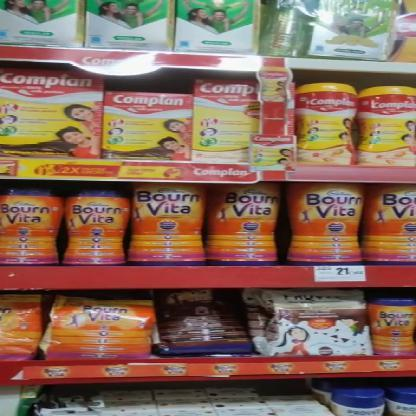Complan Kesar Badam: (193, 78, 264, 165)
Complan Royal Chocolate: (4, 71, 104, 157), (104, 93, 194, 158)
